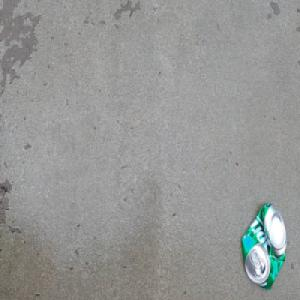SodaCan: (239, 200, 288, 292)
